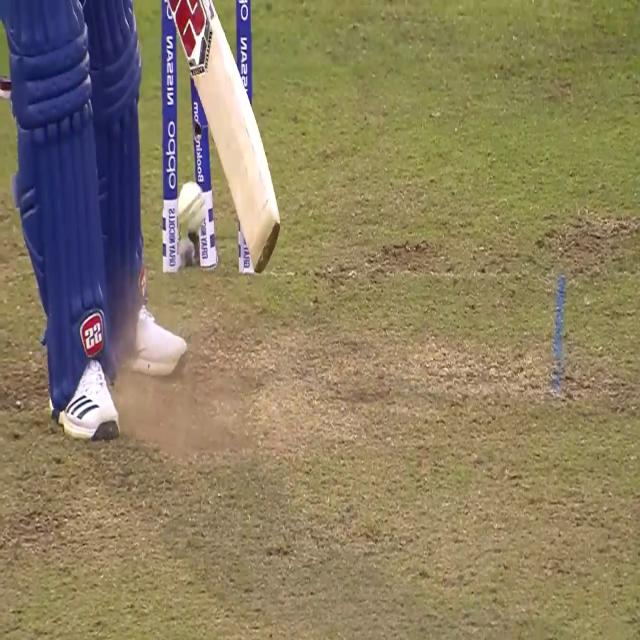ball: (177, 178, 203, 240)
